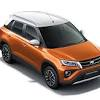Honda: (1, 11, 100, 88)
